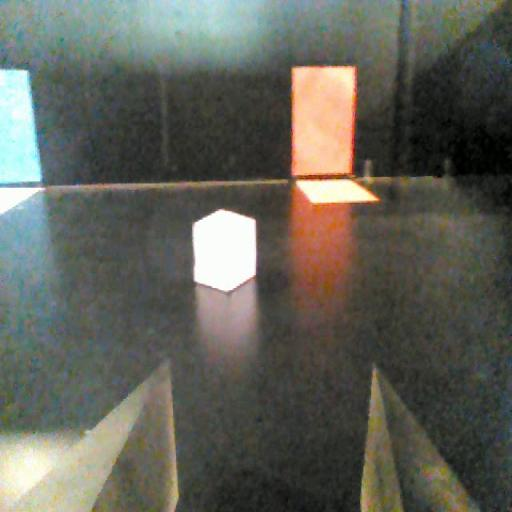cube: (186, 204, 268, 300)
